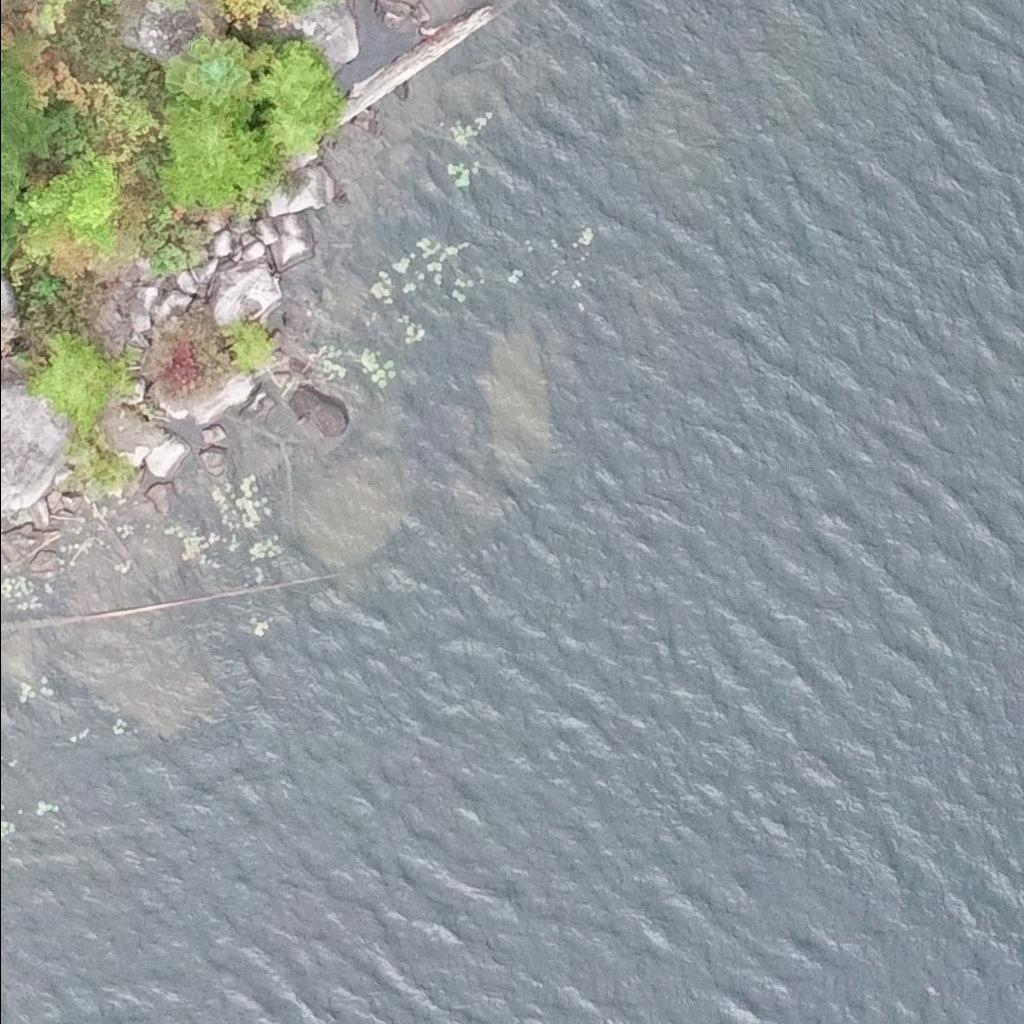crown: (155, 90, 283, 206), (243, 36, 342, 155), (16, 160, 117, 251), (0, 72, 58, 225), (164, 33, 270, 107)
